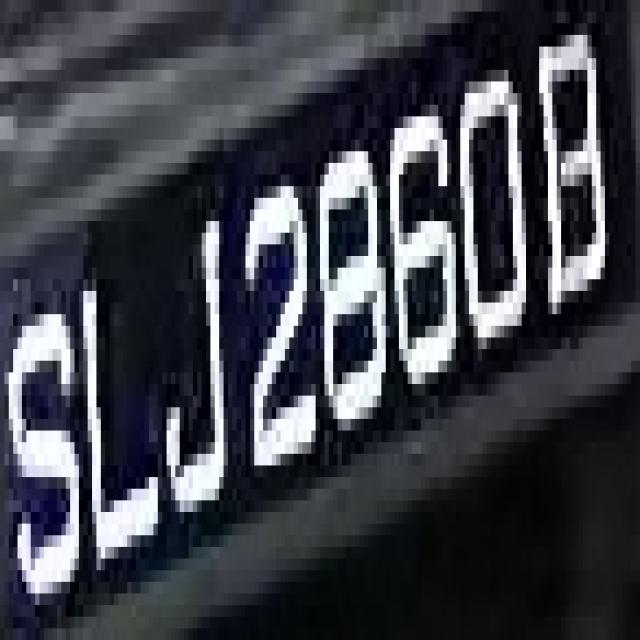0: (447, 35, 535, 407)
2: (228, 152, 320, 536)
6: (368, 58, 456, 396)
8: (302, 105, 399, 454)
B: (530, 12, 618, 326)
J: (149, 186, 246, 547)
L: (74, 244, 171, 594)
S: (4, 280, 79, 628)
